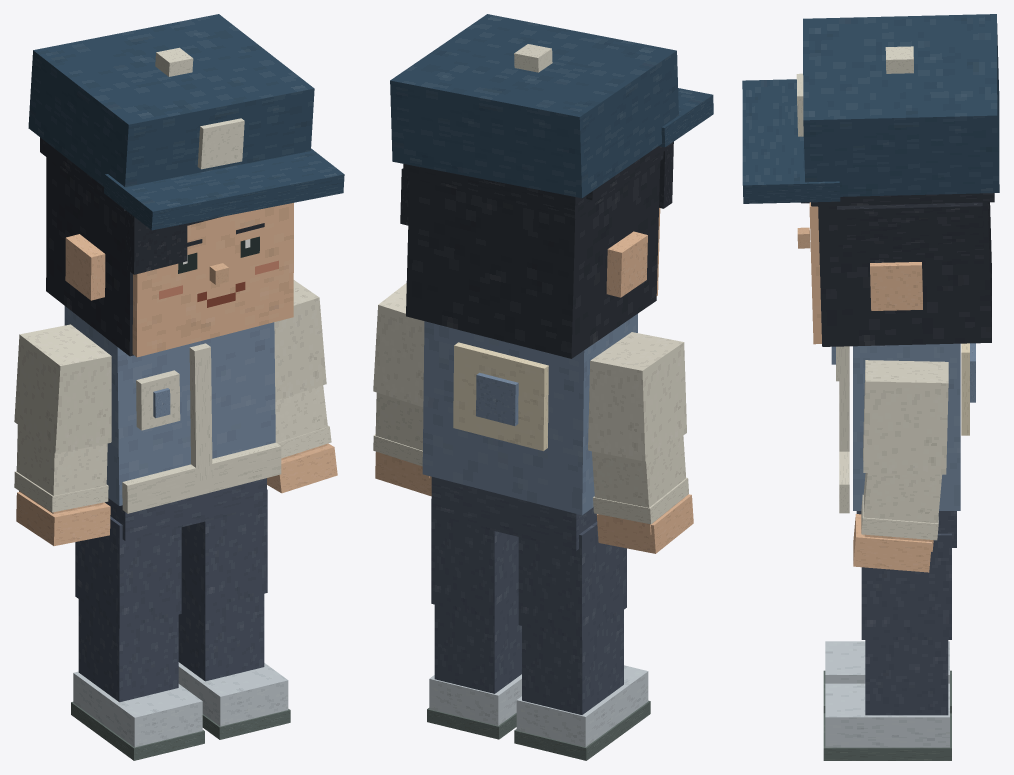
The picture shows the model from 3 angles, left to right: view 1: azimuth 30°, elevation 25°; view 2: azimuth 150°, elevation 25°; view 3: azimuth 270°, elevation 25°; orthographic projection.
Parts seen in each view (by area): view 1: accessory:cap, object 2, object 6, object 13, outfit:varsity, object 5, object 23, object 24, object 27, object 28, object 25, object 18 (+13 smaller); view 2: accessory:cap, object 5, object 2, object 13, object 23, outfit:varsity, object 24, object 27, object 28, object 1, hair:pixie, object 18 (+12 smaller); view 3: accessory:cap, object 5, hair:pixie, object 18, object 27, object 28, object 2, object 29, object 21, outfit:varsity, object 20, object 8 (+5 smaller).
Boxes of the visible parts, x1,y1,x2,y2 form: accessory:cap: [28, 14, 344, 230]; object 2: [64, 306, 275, 505]; object 6: [132, 203, 293, 357]; object 13: [14, 324, 111, 453]; outfit:varsity: [122, 343, 281, 513]; object 5: [46, 157, 133, 356]; object 23: [75, 516, 181, 628]; object 24: [78, 599, 178, 702]; object 27: [181, 489, 267, 607]; object 28: [178, 591, 264, 681]; object 25: [73, 671, 202, 747]; object 18: [274, 280, 326, 400]; accessory:cap: [390, 14, 713, 198]; object 5: [406, 161, 660, 358]; object 2: [422, 314, 637, 515]; object 13: [588, 332, 686, 461]; object 23: [518, 521, 626, 640]; outfit:varsity: [453, 342, 548, 451]; object 24: [522, 610, 623, 714]; object 27: [431, 499, 518, 618]; object 28: [434, 602, 521, 693]; object 1: [431, 477, 596, 550]; hair:pixie: [400, 141, 673, 225]; object 18: [373, 283, 424, 406]; accessory:cap: [742, 14, 999, 203]; object 5: [818, 202, 991, 346]; hair:pixie: [801, 193, 994, 263]; object 18: [863, 360, 948, 474]; object 27: [861, 533, 951, 639]; object 28: [865, 640, 948, 715]; object 2: [853, 343, 960, 510]; object 29: [825, 683, 949, 747]; object 21: [863, 473, 941, 523]; outfit:varsity: [831, 343, 975, 513]; object 20: [853, 514, 931, 572]; object 8: [870, 262, 922, 310].
Bounding box in the file's own units: 0.9468 × 2.13 × 0.7421.
11 materials, 11 textured.
